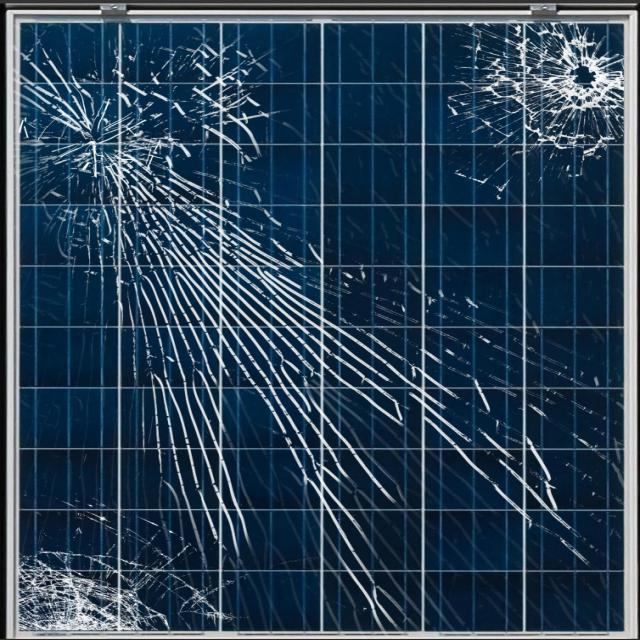cracked: (8, 13, 632, 637)
